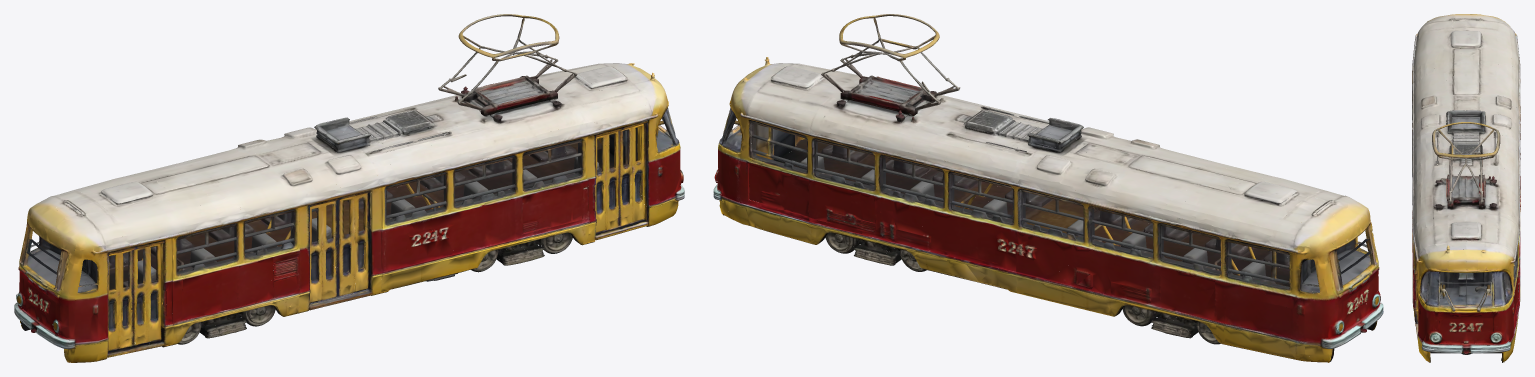
3 views of the same model, side by side, from view 1: azimuth 30°, elevation 25°; view 2: azimuth 150°, elevation 25°; view 3: azimuth 270°, elevation 25° (orthographic). The views are drawn at different scales.
Parts seen in each view (by area): view 1: Tatra_T3SU; view 2: Tatra_T3SU; view 3: Tatra_T3SU.
Boxes of the visible parts, box(x1,y1,x2,y2) form: Tatra_T3SU: box(14, 14, 684, 362); Tatra_T3SU: box(713, 14, 1383, 362); Tatra_T3SU: box(1412, 14, 1520, 362).
Size of the model in its own units: 14 by 4.49 by 2.5.
1 material, 1 textured.
